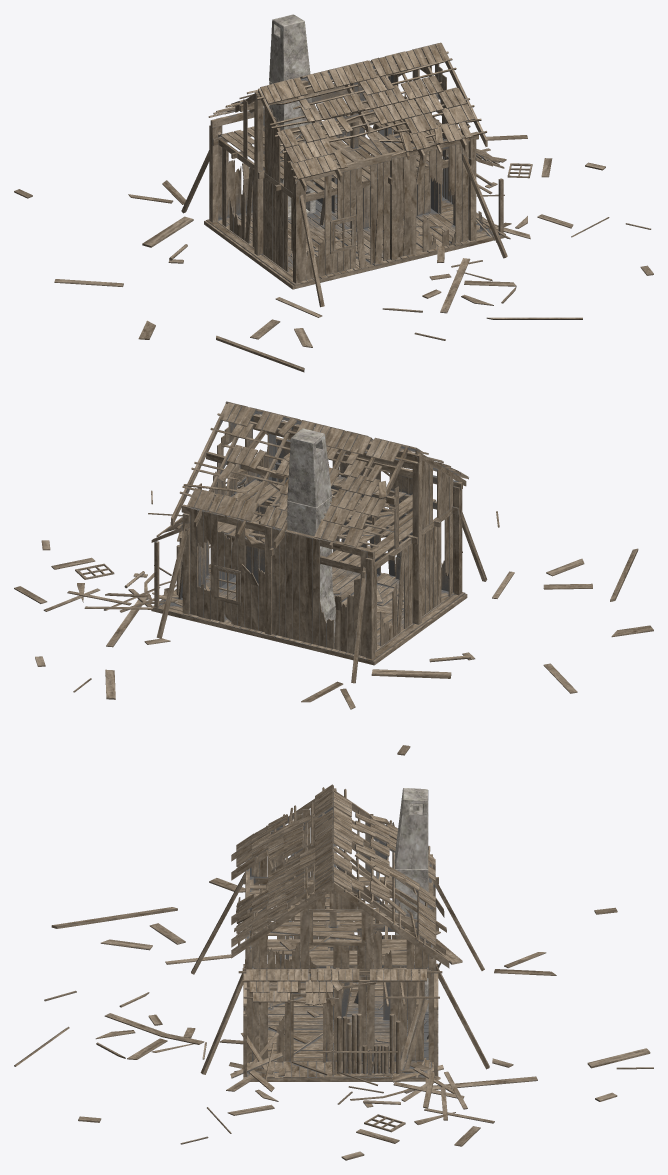
The model's file is abandoned_house.glb.
3 renders of one model, top to bottom at view 1: azimuth 30°, elevation 25°; view 2: azimuth 150°, elevation 25°; view 3: azimuth 270°, elevation 25°, orthographic. The views are drawn at different scales.
Visible parts, largest first — view 1: Cube.131_Material.001_0; view 2: Cube.131_Material.001_0; view 3: Cube.131_Material.001_0.
Part boxes in pixels (box(x1,y1,x2,y2)): Cube.131_Material.001_0: box(14, 14, 653, 372); Cube.131_Material.001_0: box(14, 401, 653, 755); Cube.131_Material.001_0: box(14, 784, 653, 1160).
Bounding box in the file's own units: 17.61 × 6.24 × 16.71.
Materials: 1 (1 with a texture image).
